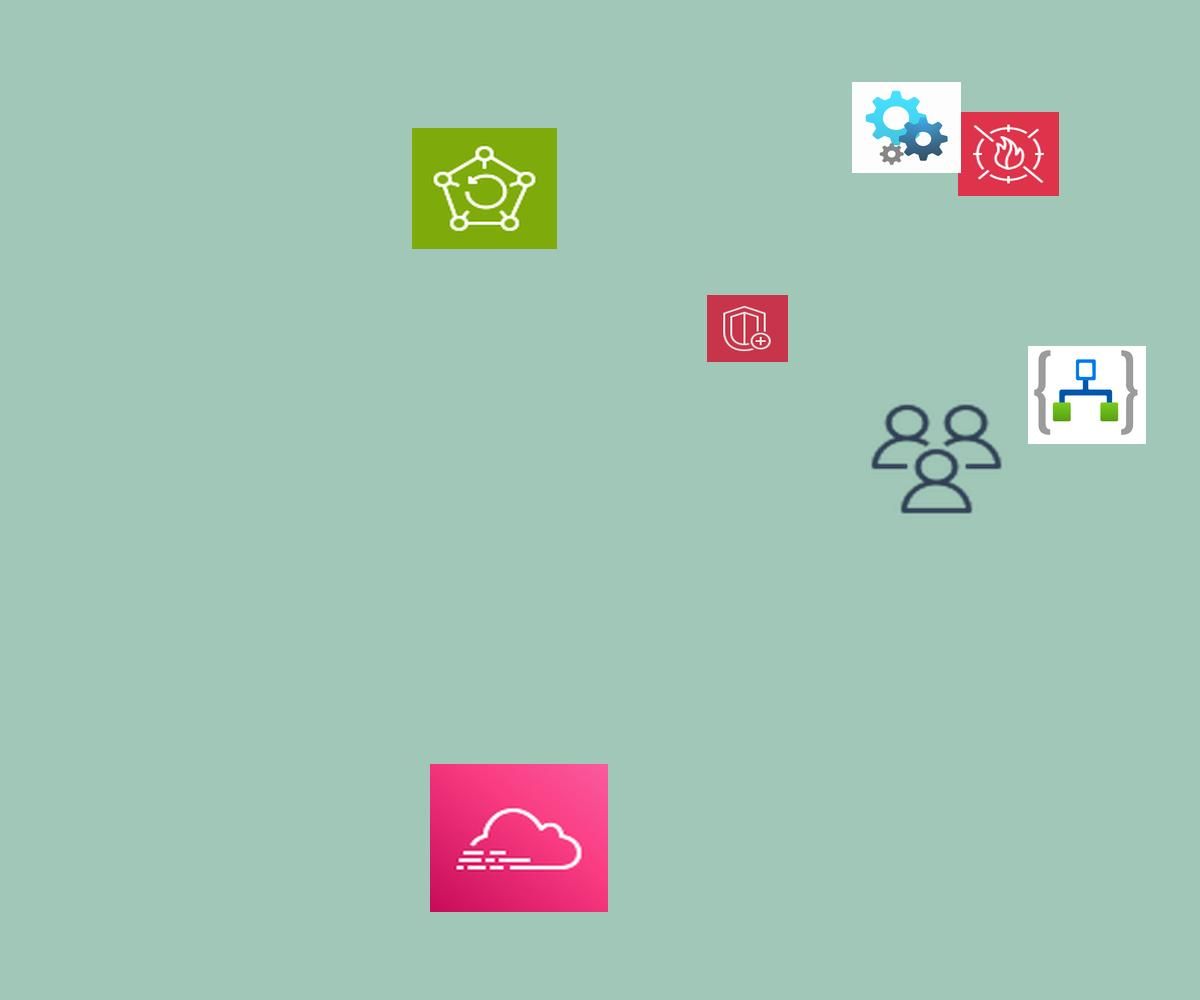AWS-Backup: (412, 128, 557, 249)
AWS-CloudTrail: (430, 764, 608, 912)
AWS-Res_Users: (866, 400, 1007, 518)
AWS-Shield: (707, 295, 788, 362)
AWS-WAF: (958, 112, 1059, 196)
Azure_api: (852, 82, 961, 173)
Azure_integration-204-Logic-Apps: (1028, 346, 1146, 444)
